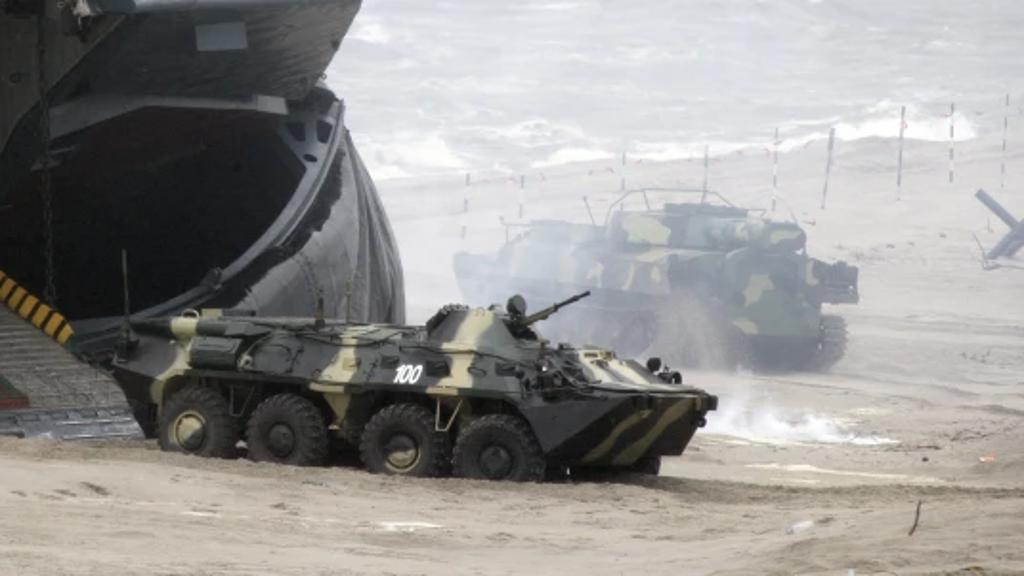APC-IFV: (115, 288, 726, 488), (451, 196, 860, 376)
